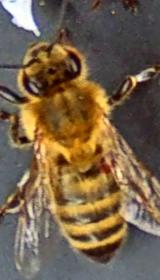varroa_mite: (88, 140, 122, 181)
